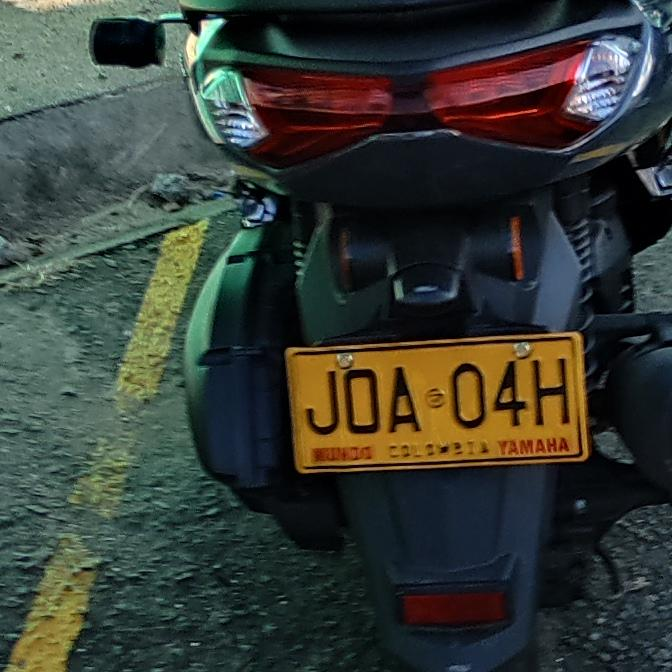plates: (284, 339, 589, 474)
